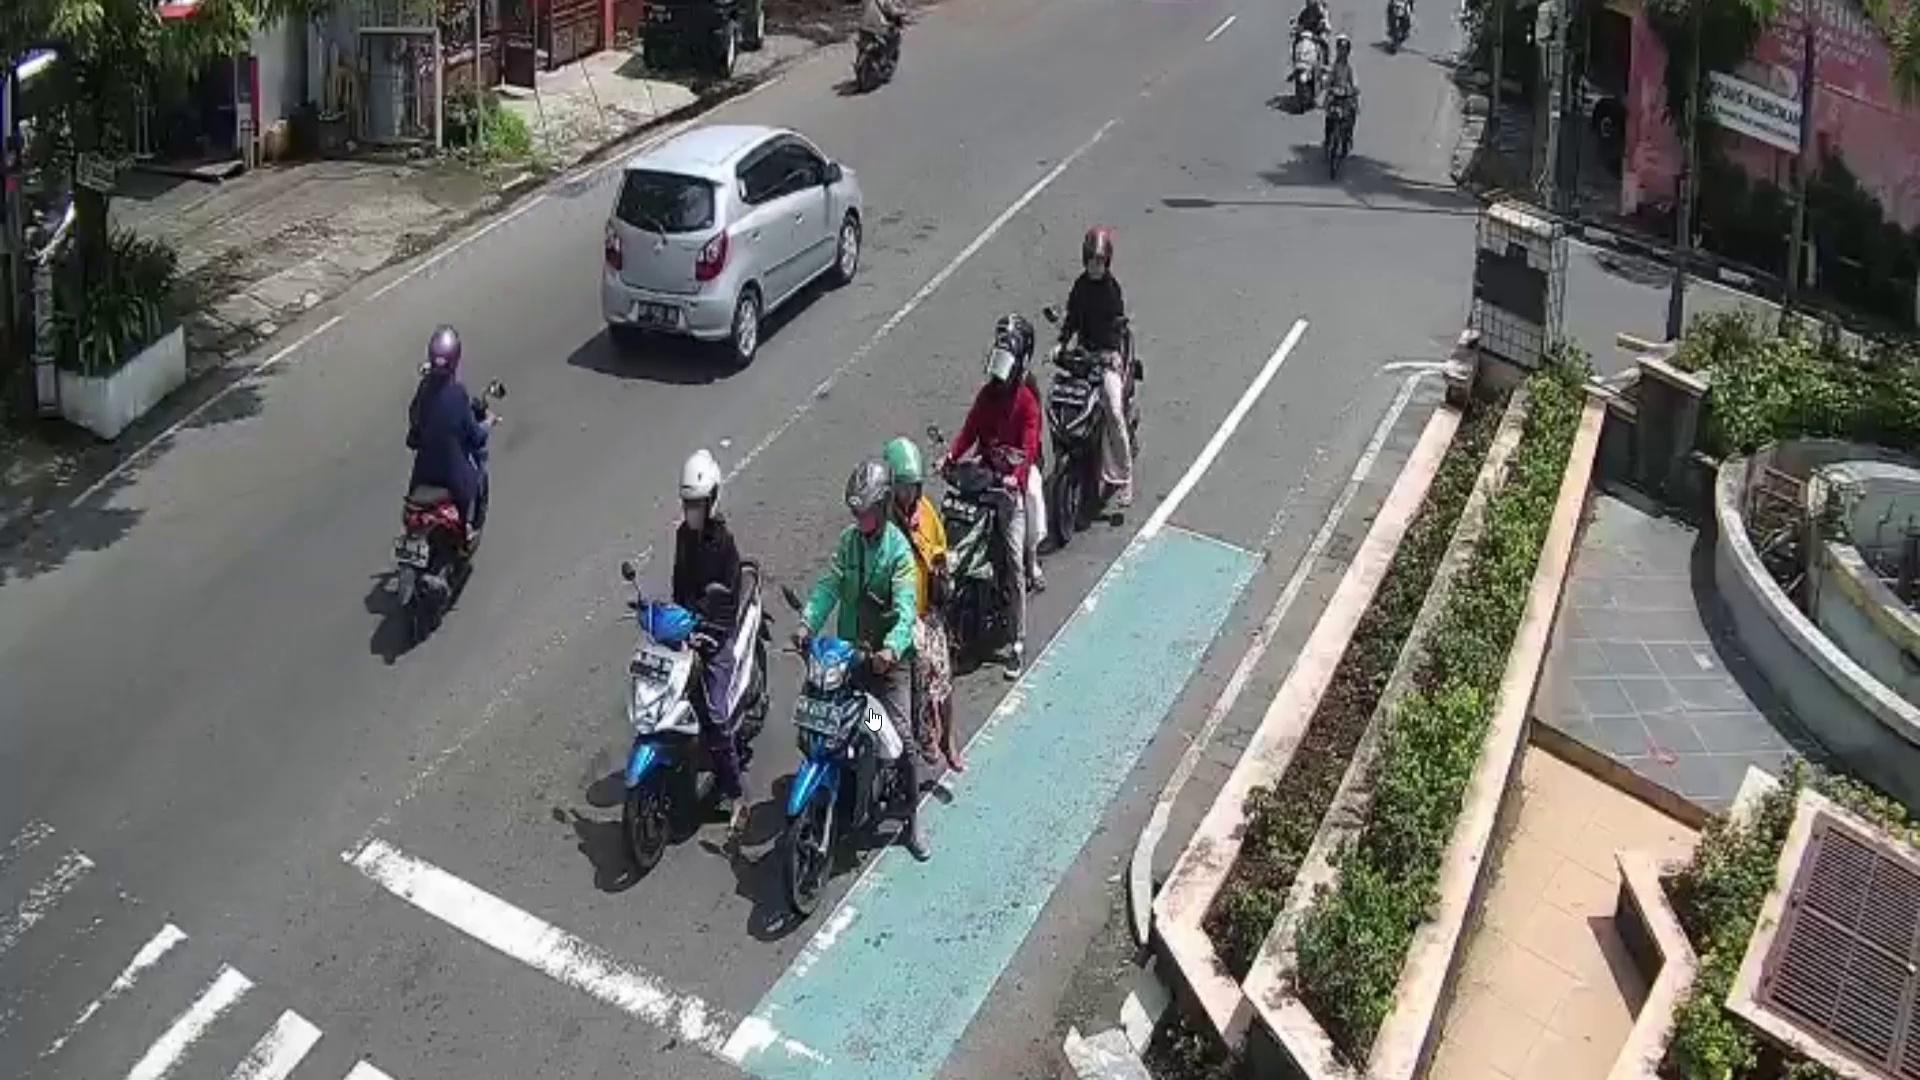car: (599, 121, 862, 367)
motorbike: (777, 580, 951, 923), (615, 558, 777, 877), (924, 444, 1042, 705), (390, 392, 504, 649), (1046, 327, 1145, 539), (852, 8, 907, 90), (1324, 82, 1358, 181), (1291, 25, 1327, 115)
